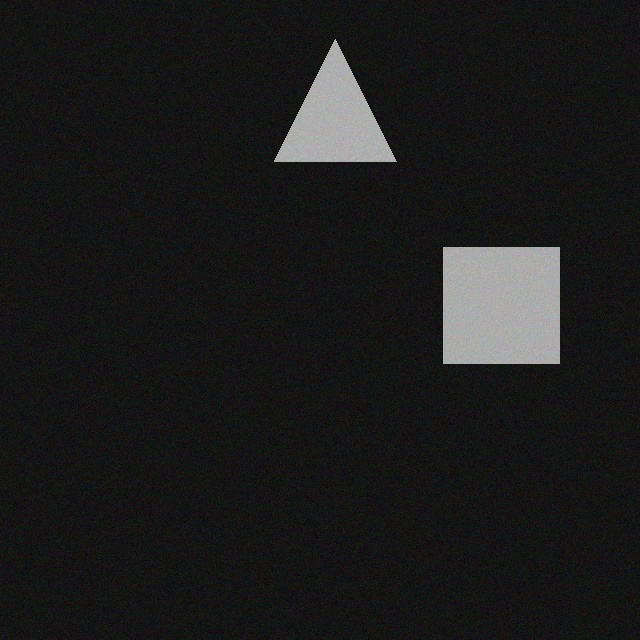square: (455, 241, 571, 357)
triangle: (286, 33, 408, 155)
